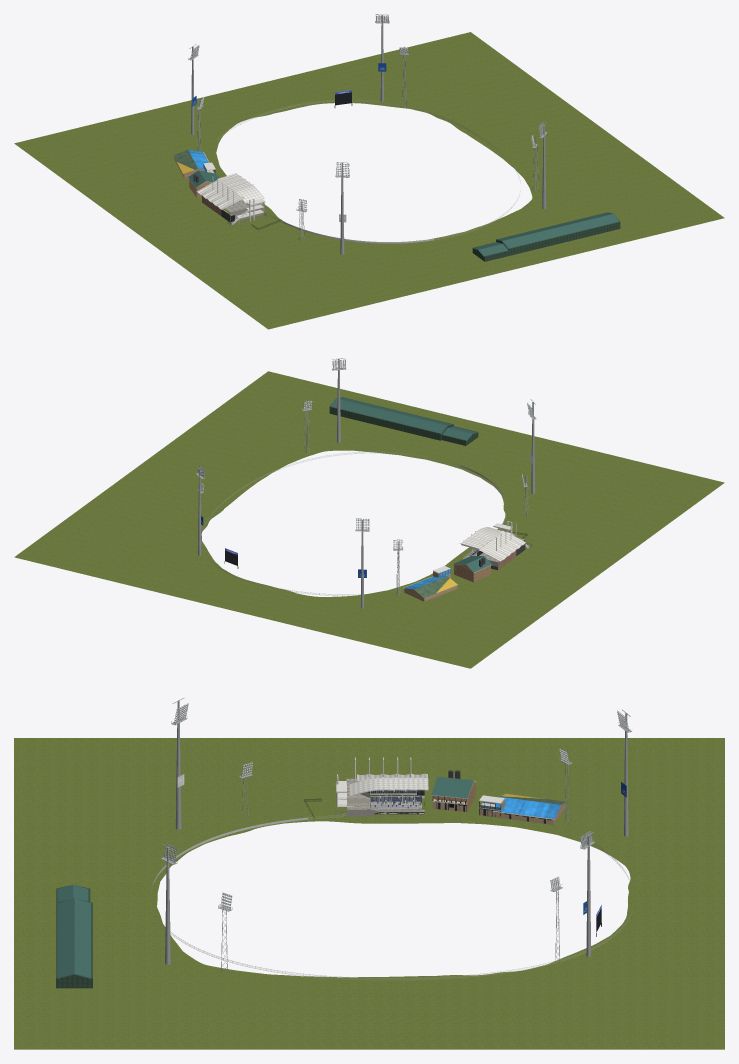
File: traeger.glb
3 renders of one model, top to bottom at view 1: azimuth 30°, elevation 25°; view 2: azimuth 150°, elevation 25°; view 3: azimuth 270°, elevation 25°, orthographic. The views are drawn at different scales.
Parts seen in each view (by area): view 1: ground_dirt, FL_2_br, green_roof_b, shed_annex_gables, canopy_top, fence_hoard, roof_top0, bal_roof; view 2: ground_dirt, FL_2_br, green_roof_b, shed_annex_gables, canopy_top, fence_hoard; view 3: ground_dirt, FL_2_br, green_roof_b, fence_hoard, roof_top0, shed_annex_gables, blue_roof, bal_roof, concourse, FL_2_head_lamps.
Part boxes in pixels (left/top/right/bottom): ground_dirt: left=14, top=32, right=724, bottom=329; FL_2_br: left=188, top=14, right=547, bottom=254; green_roof_b: left=188, top=170, right=620, bottom=256; shed_annex_gables: left=472, top=212, right=620, bottom=261; canopy_top: left=196, top=180, right=244, bottom=209; fence_hoard: left=218, top=99, right=519, bottom=240; roof_top0: left=218, top=173, right=264, bottom=203; bal_roof: left=203, top=162, right=265, bottom=225; ground_dirt: left=14, top=371, right=724, bottom=668; FL_2_br: left=196, top=358, right=536, bottom=608; green_roof_b: left=329, top=397, right=491, bottom=572; shed_annex_gables: left=329, top=397, right=478, bottom=445; canopy_top: left=479, top=530, right=525, bottom=560; fence_hoard: left=202, top=451, right=459, bottom=595; ground_dirt: left=14, top=738, right=724, bottom=1049; FL_2_br: left=160, top=697, right=631, bottom=972; green_roof_b: left=57, top=776, right=473, bottom=979; fence_hoard: left=151, top=813, right=633, bottom=980; roof_top0: left=349, top=778, right=428, bottom=795; shed_annex_gables: left=56, top=885, right=92, bottom=988; blue_roof: left=493, top=796, right=560, bottom=818; bal_roof: left=336, top=757, right=504, bottom=808; concourse: left=346, top=778, right=424, bottom=810; FL_2_head_lamps: left=175, top=704, right=627, bottom=908.
Size of the model in its own units: 280 by 53.67 by 270.
50 materials, 49 textured.
